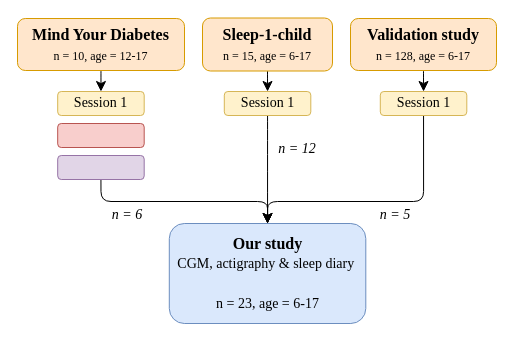
This 514x341 diagram has some shape labels left out. Each missing label, with the centre of its shape:
Session 2: [100,135]
Session 3: [100,167]
